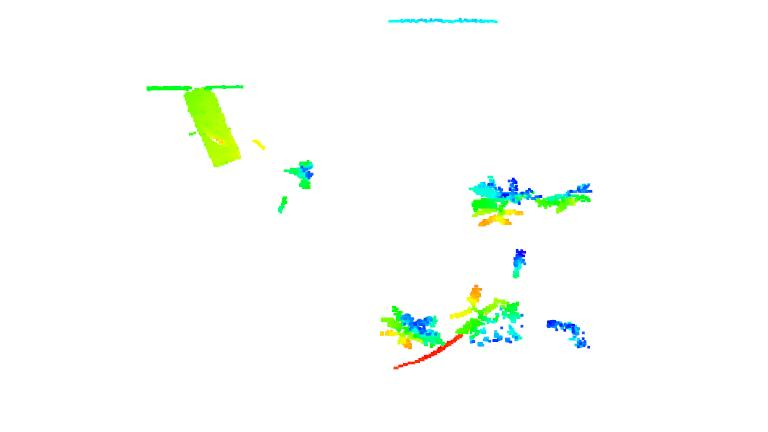chickpea: (451, 285, 524, 344), (467, 174, 542, 227), (378, 306, 447, 349), (534, 180, 597, 215)
